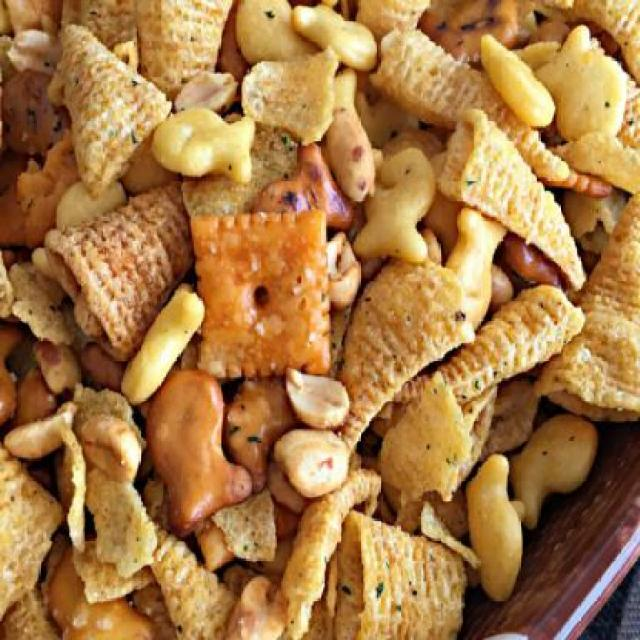Salatini packaged: (6, 9, 628, 631)
